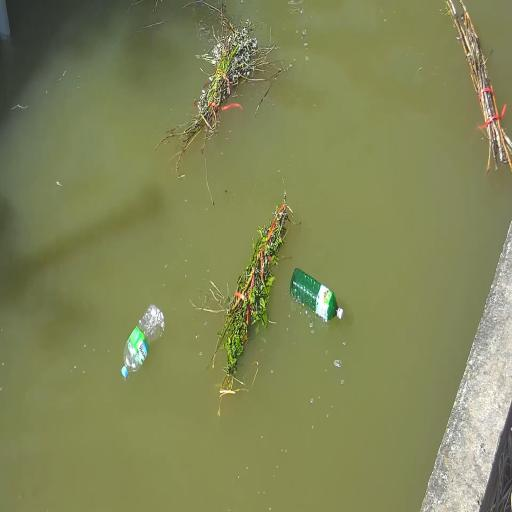plastic: (288, 265, 346, 328), (118, 302, 164, 380)
twig: (214, 210, 288, 380), (443, 3, 512, 168), (186, 20, 260, 171)
